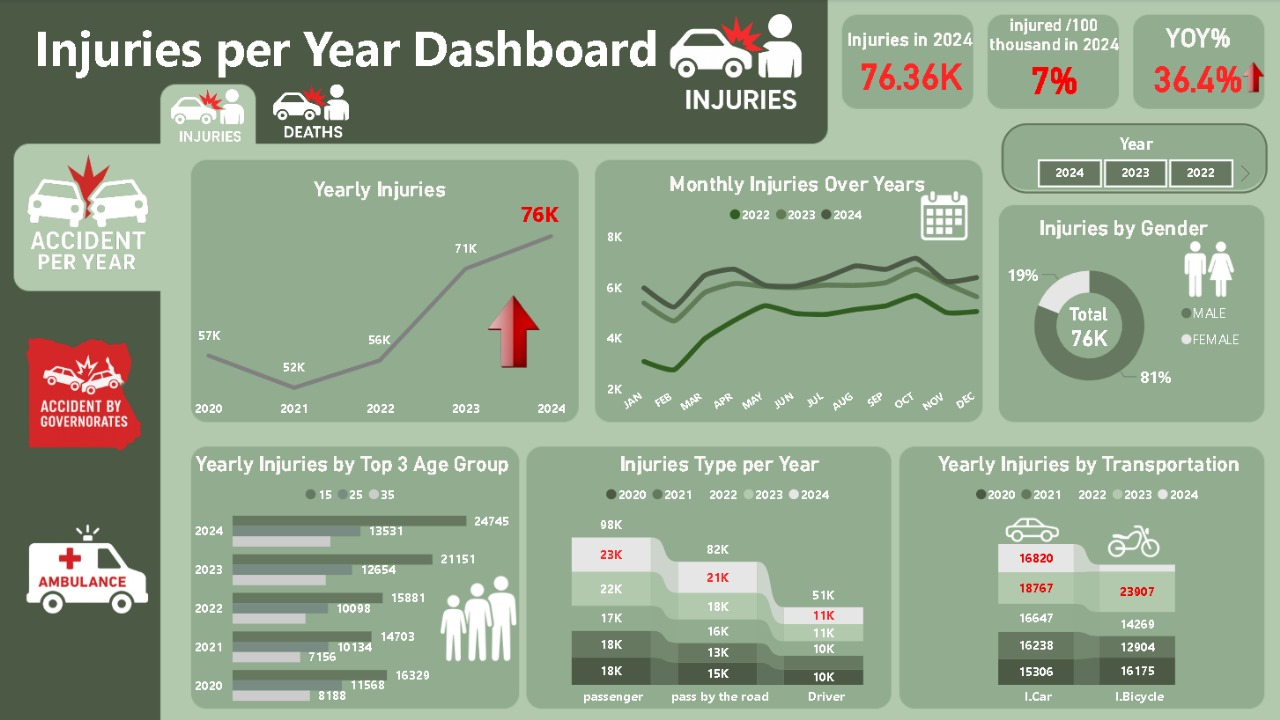

Layout of this report page (visuals, bound fields, positions):
{"tool":"powerbi","page":{"name":"injuries per yeard","canvas":[1280,720],"ordinal":0},"visuals":[{"type":"textbox","box":[31.8,9.7,897.9,79.6],"z":0},{"type":"card","title":"Injuries in 2024","fields":{"Values":["Sum(PERCENTAGE.number of  injuried)"]},"box":[838.5,9.7,142.2,102.7],"z":1000},{"type":"lineChart","title":"Monthly Injuries Over Years","fields":{"Series":["MOMTH PER YEAR.YEAR"],"Category":["MOMTH PER YEAR.ShortMonth"],"Y":["Sum(MOMTH PER YEAR.Injury)"]},"box":[602.3,172.1,390.7,251.1],"z":2000},{"type":"donutChart","title":"Injuries by Gender","fields":{"Category":["gender.gender"],"Y":["Sum(gender.INJURED)"]},"box":[993.5,215.9,259.5,196.2],"z":3000},{"type":"card","title":"Total","fields":{"Values":["Sum(transopotation.INJURED)"]},"box":[1036,283.4,102.8,83],"z":4000},{"type":"clusteredBarChart","title":"Yearly Injuries by Top 3 Age Group","fields":{"Y":["Sum(Age per Years.INJURED)"],"Category":["Age per Years.YEARS"],"Series":["Age per Years.AGE"]},"box":[191.4,451.3,324.9,261.7],"z":5000},{"type":"ribbonChart","title":"Yearly Injuries by Transportation ","fields":{"Category":["TRANPORTATION PER YEAR.Transportation"],"Y":["Sum(TRANPORTATION PER YEAR.INJURY)"],"Series":["TRANPORTATION PER YEAR.YEAR"]},"box":[901.8,451.3,372.3,261.7],"z":6000},{"type":"columnChart","title":" Injuries Type per Year  ","fields":{"Category":["Death tybe per year.Death type"],"Series":["Death tybe per year.Years "],"Y":["Sum(Death tybe per year.INJURED)"]},"box":[525.1,451.3,389.9,261.7],"z":7000},{"type":"card","title":"YOY%","fields":{"Values":["measure.Injuries Change 2022-2024 %"]},"box":[1119.5,3.5,154.5,113.3],"z":8000},{"type":"image","box":[23.7,123.8,132.6,182.6],"z":9000},{"type":"image","box":[422.5,521.1,115.2,192.1],"z":10000},{"type":"image","box":[1166.8,203.5,79.9,132.9],"z":11000},{"type":"image","box":[993.5,467.2,76.8,124.6],"z":12000},{"type":"image","box":[1094.2,475.5,76.8,133.9],"z":13000},{"type":"image","box":[154.3,85.1,113.5,64.9],"z":14000},{"type":"image","box":[12.3,302,154.5,194],"z":15000},{"type":"slicer","title":"Year","fields":{"Values":["PERCENTAGE.Year"]},"box":[1001,124,264.5,69.5],"z":16000},{"type":"image","box":[901.8,172.1,84.3,87.8],"z":17000},{"type":"lineChart","title":"Yearly Injuries","fields":{"Category":["PERCENTAGE.Year"],"Y":["Sum(PERCENTAGE.number of  injuried)"]},"box":[191.4,177.4,379.3,248.5],"z":18000},{"type":"image","box":[255.5,80.8,119.4,62.3],"z":19000},{"type":"card","title":"injured /100  thousand in 2024","fields":{"Values":["Min(PERCENTAGE.injured / 100 thousands.1)"]},"box":[973.8,0,158.9,117.7],"z":20000},{"type":"image","box":[640.6,0,197.8,123.6],"z":21000},{"type":"image","box":[473.3,259.9,85.2,144.9],"z":22000},{"type":"image","box":[1231.9,39.5,41.3,77.3],"z":23000},{"type":"image","box":[12.3,486.4,154.5,172.1],"z":24000},{"type":"textbox","box":[516.3,193.2,58,39.5],"z":25000}]}

Visuals, with their boxes in screenshot pixels (x1, y1, x2, y2), scaled from the page's 1280x720 canvas onto the 1280x720 screenshot:
textbox: 32/10/930/89
"Injuries in 2024" card: 838/10/981/112
"Monthly Injuries Over Years" lineChart: 602/172/993/423
"Injuries by Gender" donutChart: 994/216/1253/412
"Total" card: 1036/283/1139/366
"Yearly Injuries by Top 3 Age Group" clusteredBarChart: 191/451/516/713
"Yearly Injuries by Transportation " ribbonChart: 902/451/1274/713
" Injuries Type per Year  " columnChart: 525/451/915/713
"YOY%" card: 1120/4/1274/117
image: 24/124/156/306
image: 422/521/538/713
image: 1167/204/1247/336
image: 994/467/1070/592
image: 1094/476/1171/609
image: 154/85/268/150
image: 12/302/167/496
"Year" slicer: 1001/124/1266/194
image: 902/172/986/260
"Yearly Injuries" lineChart: 191/177/571/426
image: 256/81/375/143
"injured /100  thousand in 2024" card: 974/0/1133/118
image: 641/0/838/124
image: 473/260/558/405
image: 1232/40/1273/117
image: 12/486/167/658
textbox: 516/193/574/233
